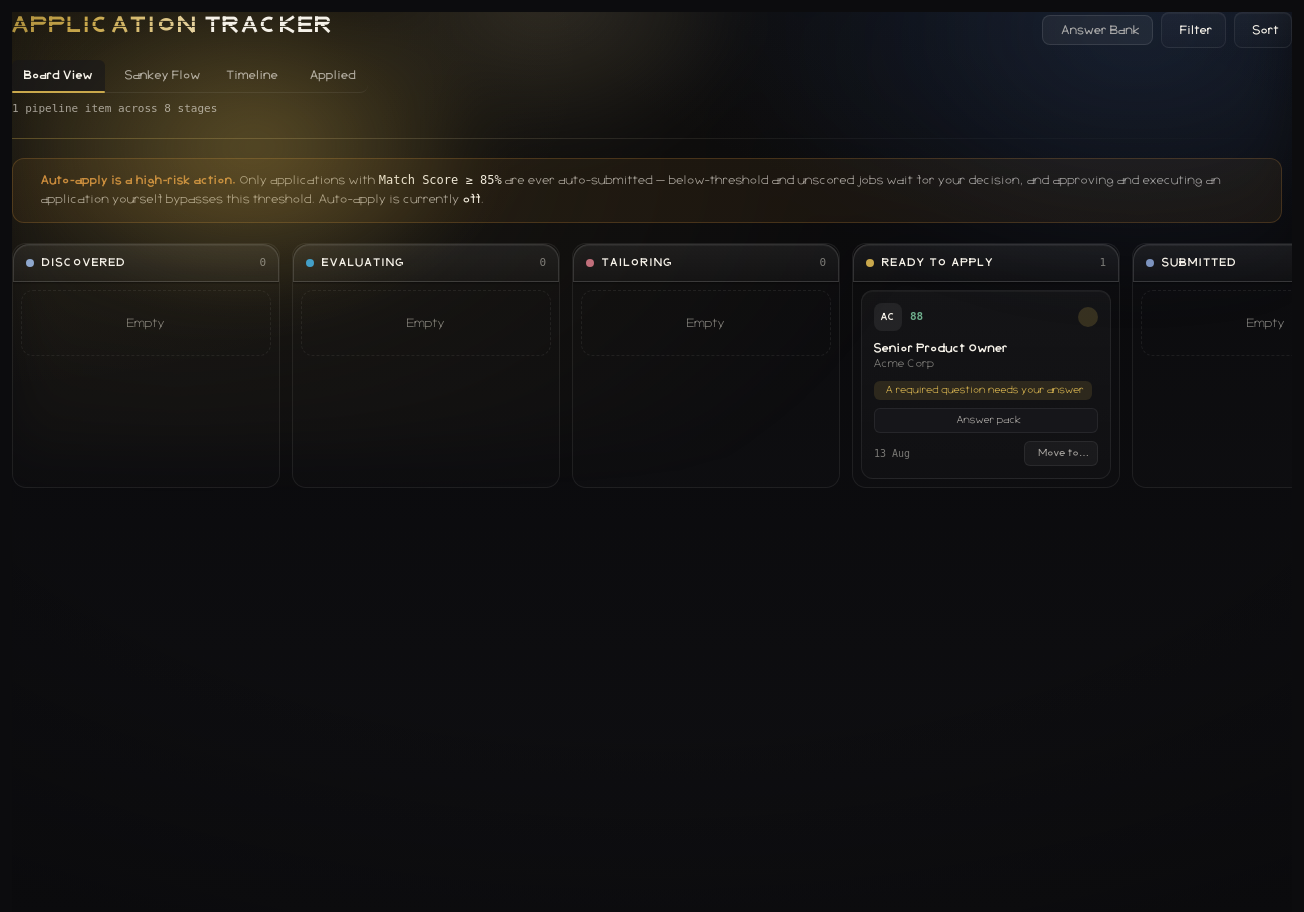
Test: U5 — a blocked application is shown as actionable, never as 'prepared only' › the detail panel renders the manual-step block with the employer's own words
Click the button "Senior Product Owner" at (941, 348), box x1=874 y1=341 x2=1008 y2=356
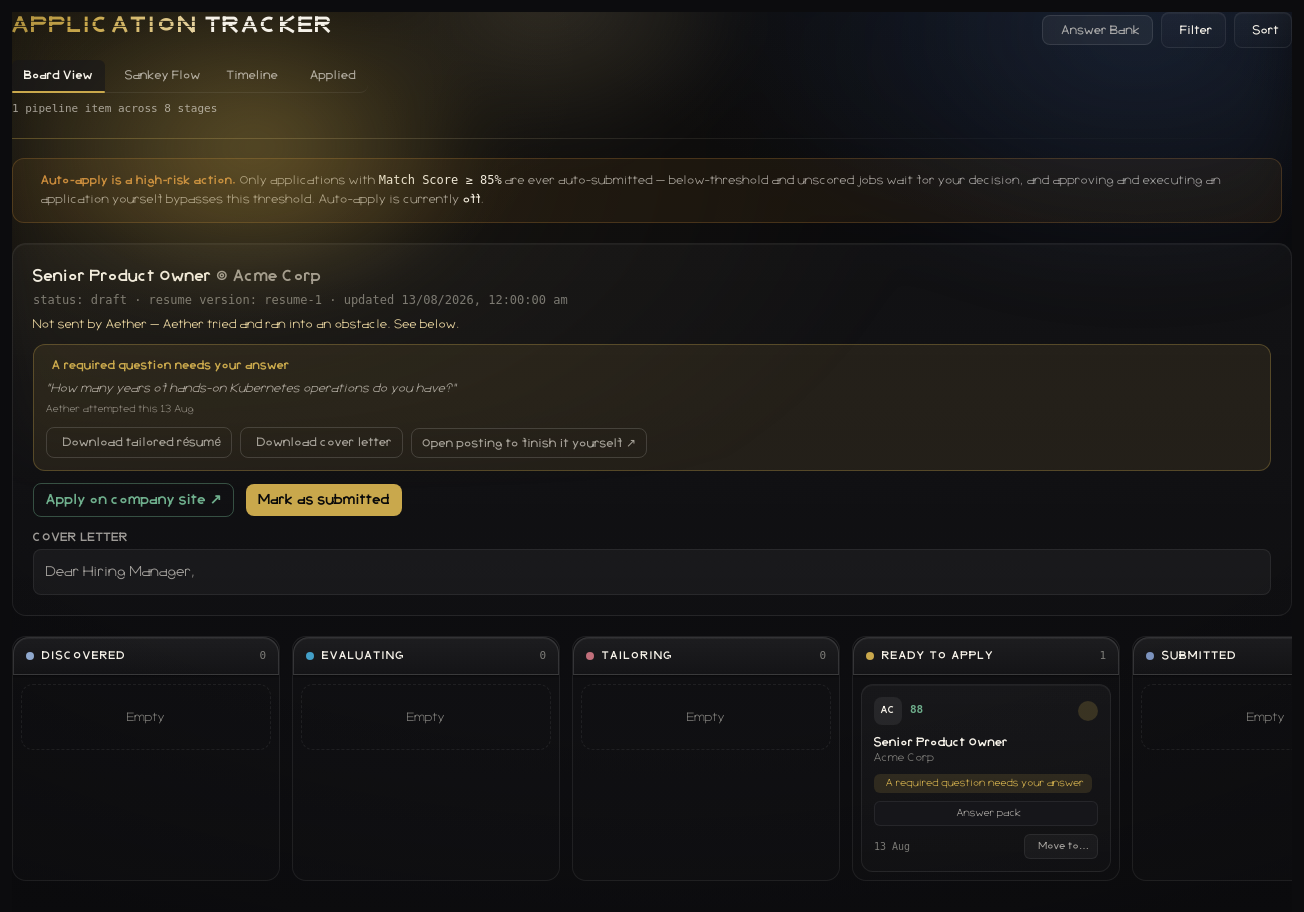
Result: the element with test id "application-manual-step-block" shows "A required question needs your answer" at x1=52 y1=358 x2=290 y2=370
Result: the text with test id "application-manual-step-detail" shows "How many years of hands-on Kubernetes operations do you have?" at x1=51 y1=382 x2=452 y2=394
Result: the text with test id "application-transmission-line" shows "ran into an obstacle" at x1=33 y1=318 x2=460 y2=330
